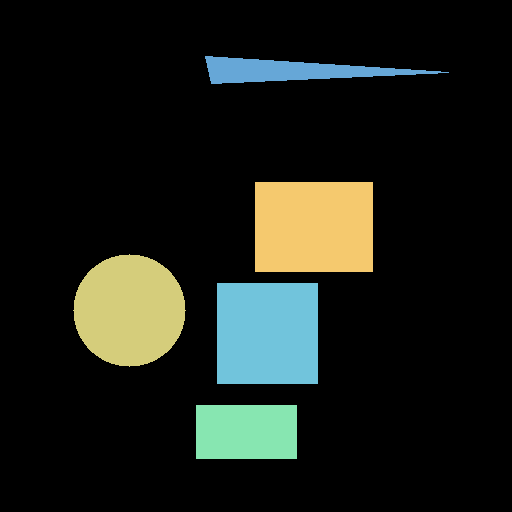circle: (73, 254, 185, 366)
rectangle: (255, 182, 372, 271), (196, 405, 296, 458)
square: (217, 283, 317, 383)
triangle: (205, 56, 448, 83)
